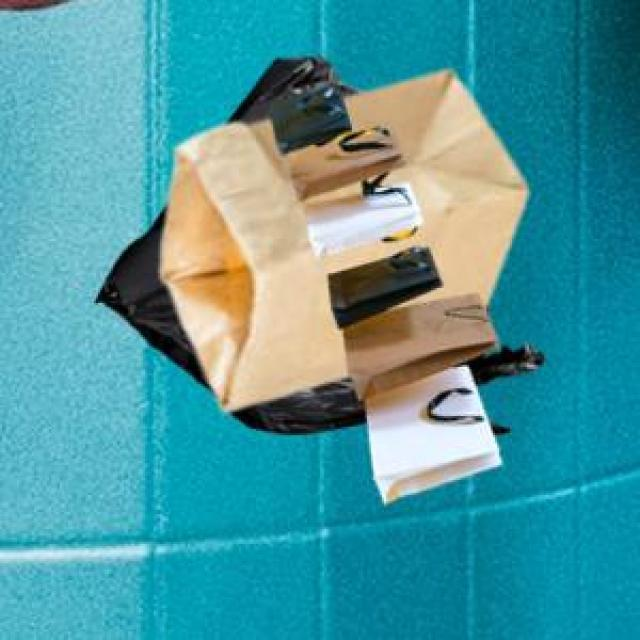miscellaneous trash: (92, 53, 540, 431)
paper: (158, 66, 523, 408), (265, 83, 497, 499)
